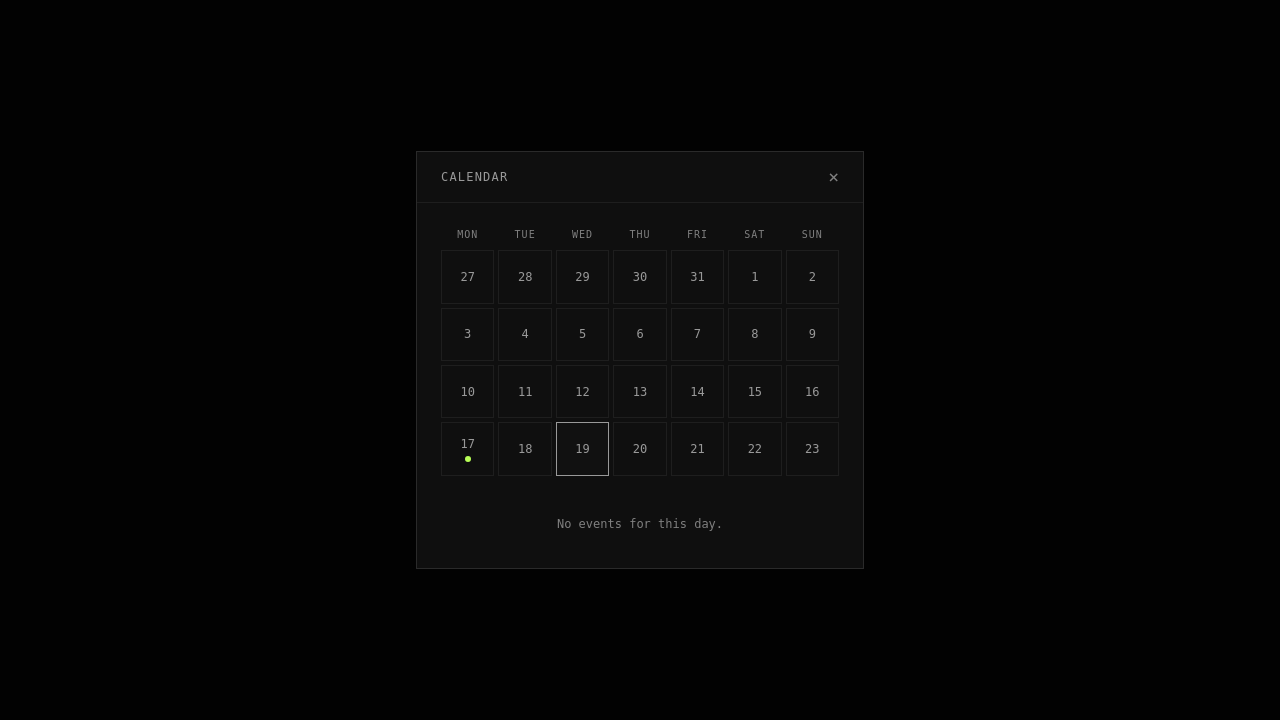
Test: CalendarDialog › shows the selected day event list from history
The image size is (1280, 720).
Click the button named "2026-08-17": x=468, y=449 [441,422,494,476]
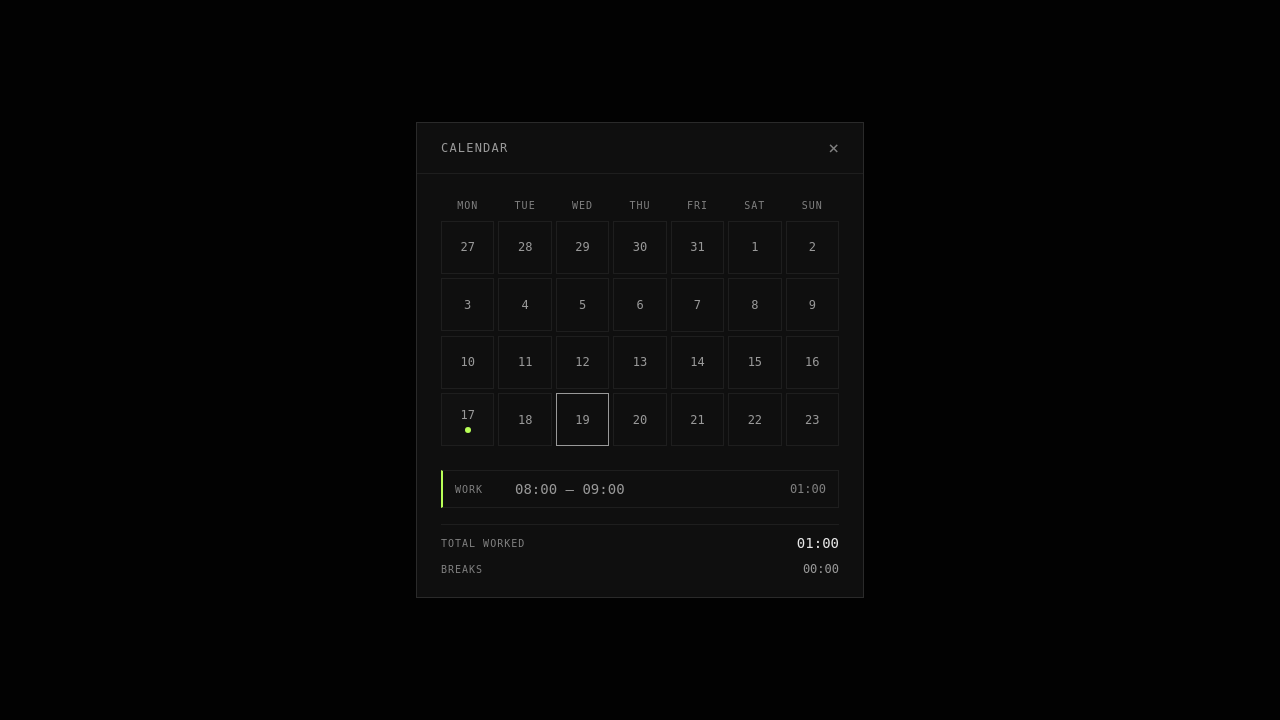
Now the text "Work" is shown, box [455,484,483,495]
Now the text "08:00 – 09:00" is shown, box [515,479,625,499]
